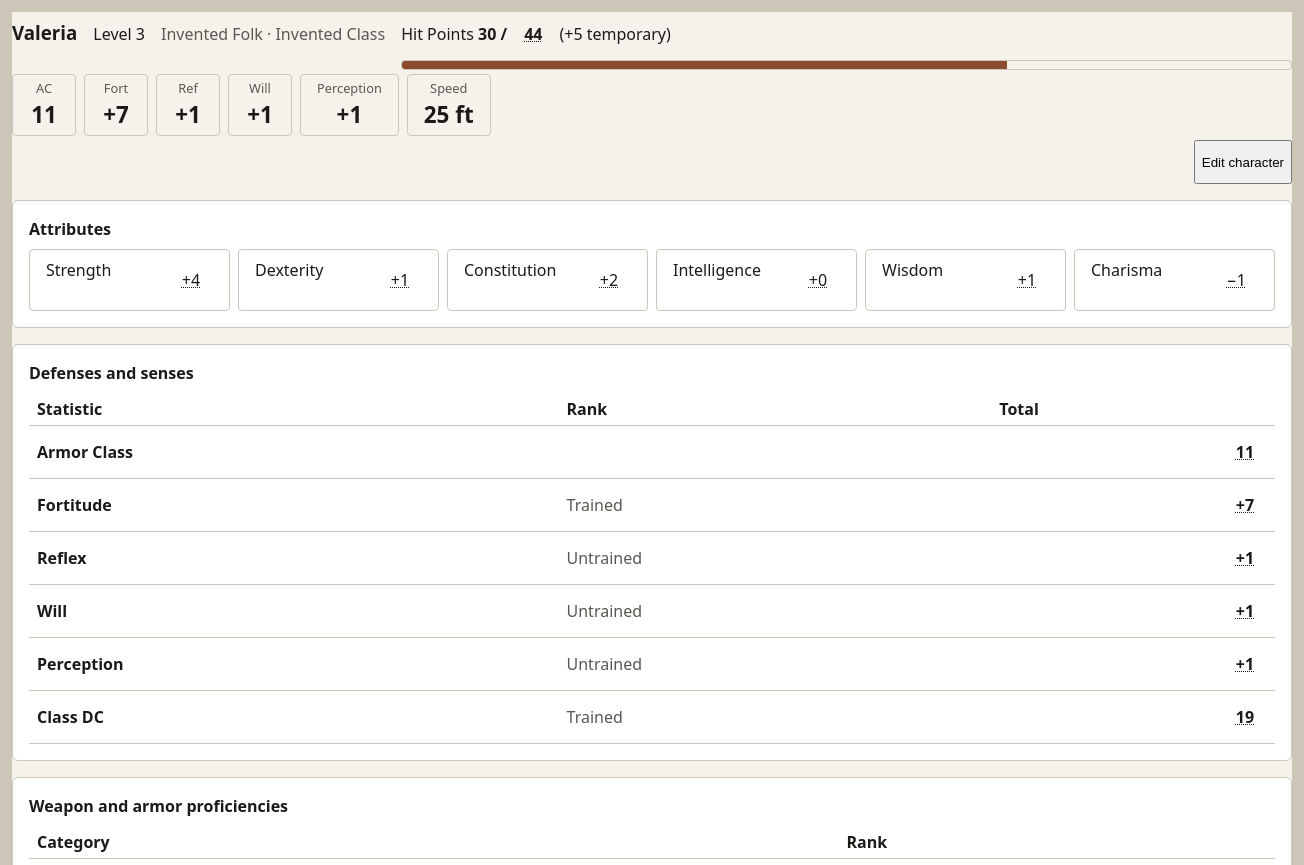
Scenario: stat breakdowns › does not offer a breakdown for an attribute while editing it (it is an input then, not a number)
Click the button with class "edit-toggle" at (1243, 162), box [1194,140,1292,184]
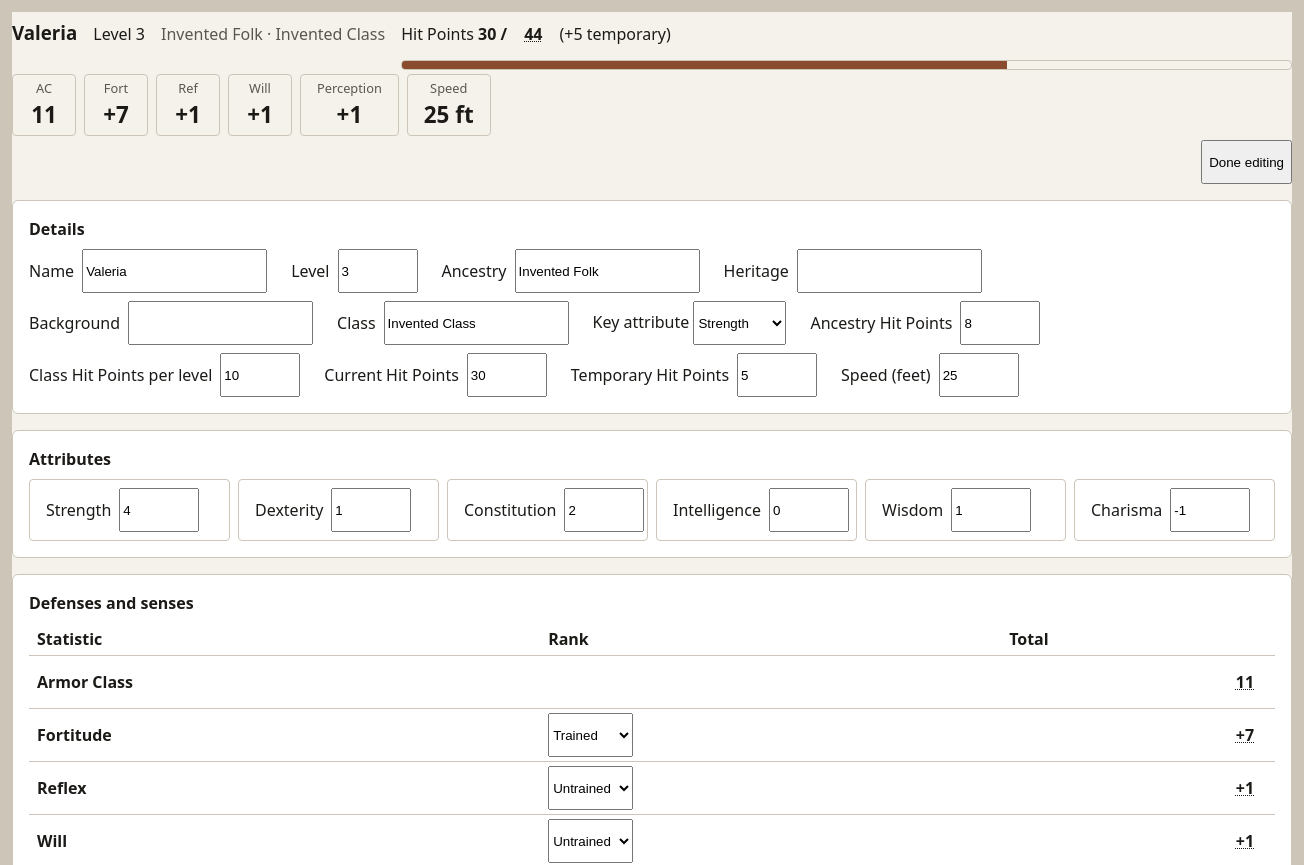
Expected: the number field labelled "Strength" is shown, [119,488,199,532]
